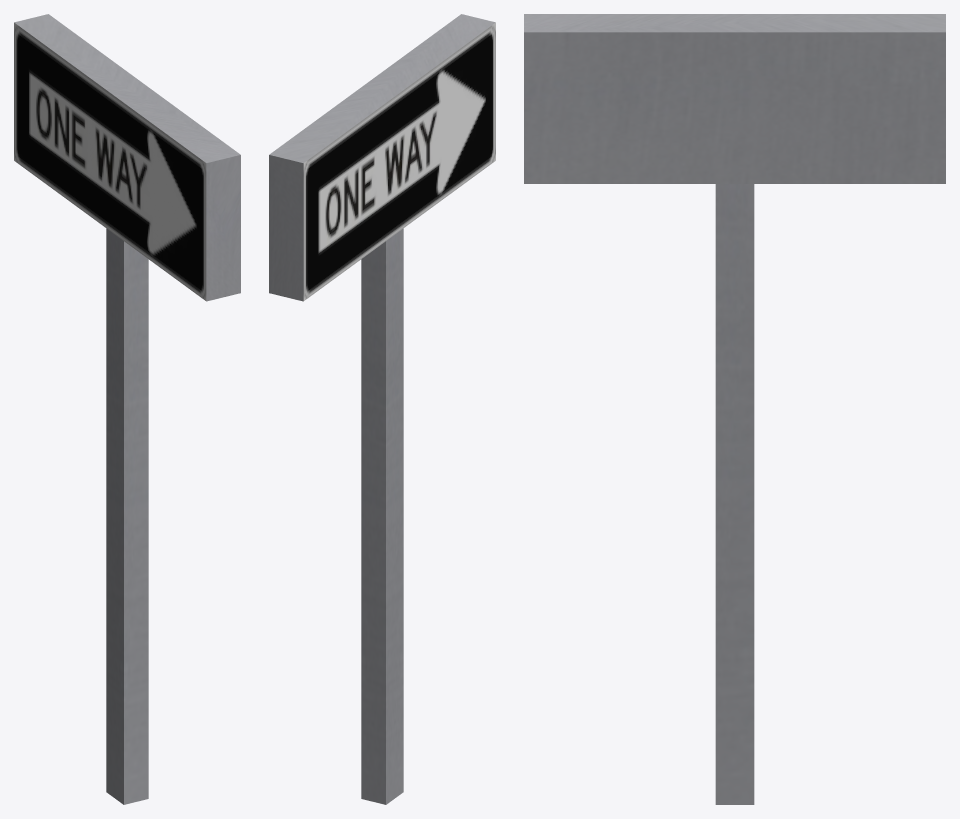
File: one way tabelası.fbx
3 views of the same model, side by side, from view 1: azimuth 30°, elevation 25°; view 2: azimuth 150°, elevation 25°; view 3: azimuth 270°, elevation 25° (orthographic). The views are drawn at different scales.
Parts seen in each view (by area): view 1: Plane; view 2: Plane; view 3: Plane.
Boxes of the visible parts, x1,y1,x2,y2 form: Plane: (14, 14, 240, 804); Plane: (269, 14, 495, 804); Plane: (524, 14, 945, 804).
Size of the model in its own units: 11 by 215 by 106.
1 material, 1 textured.
